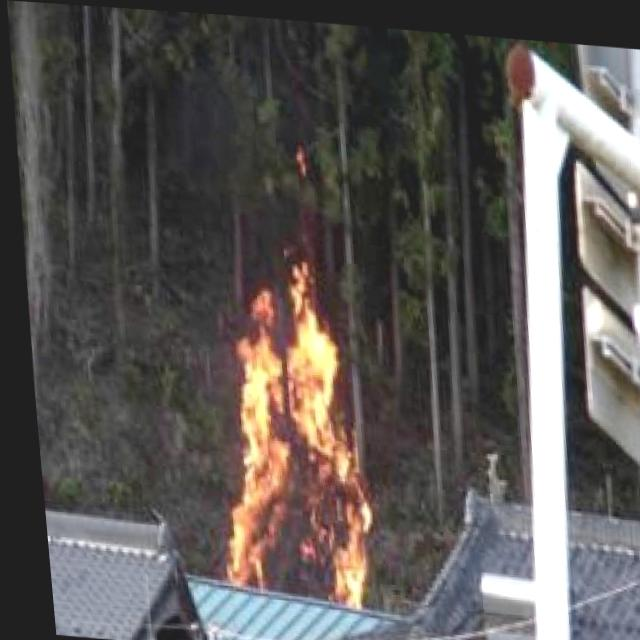helmet: (190, 234, 376, 606)
